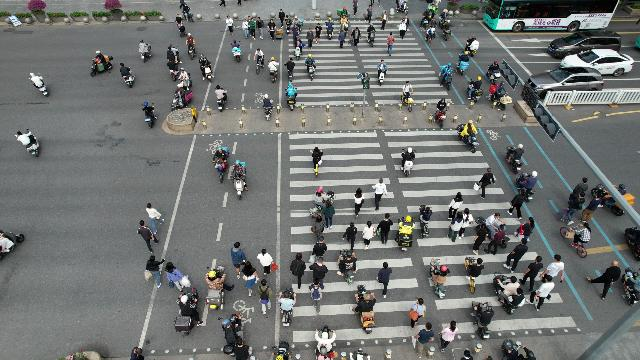non-motor-vehicle: (494, 270, 520, 310), (469, 300, 493, 340), (179, 288, 199, 330), (561, 225, 589, 255), (203, 268, 223, 308), (356, 290, 376, 328), (26, 70, 52, 98), (463, 256, 485, 288), (15, 128, 40, 156), (458, 121, 482, 150), (1, 226, 23, 256), (279, 287, 297, 323), (313, 324, 331, 360), (502, 340, 534, 360), (429, 257, 445, 292), (90, 52, 112, 77), (222, 318, 240, 348), (397, 217, 415, 246), (340, 250, 354, 286), (210, 148, 228, 176), (399, 147, 416, 175), (170, 88, 193, 108), (622, 228, 640, 252), (234, 164, 246, 200), (518, 172, 538, 192), (420, 201, 432, 233), (139, 40, 155, 64), (262, 94, 274, 126), (470, 78, 486, 102), (313, 187, 335, 204), (505, 146, 523, 166), (492, 81, 510, 101), (628, 270, 640, 298), (311, 146, 323, 174), (215, 84, 228, 109), (489, 62, 507, 80), (272, 340, 288, 360), (454, 52, 470, 72), (598, 190, 612, 212), (120, 62, 134, 84), (304, 55, 318, 77), (284, 59, 298, 81), (402, 84, 416, 106), (488, 214, 504, 232), (202, 54, 214, 78), (436, 100, 448, 124), (268, 57, 278, 84), (165, 42, 179, 61), (349, 348, 371, 360), (324, 18, 336, 40), (377, 60, 389, 82), (444, 65, 456, 87), (286, 84, 296, 109), (143, 102, 153, 126), (367, 22, 377, 46), (185, 38, 198, 56), (232, 40, 242, 62), (254, 51, 264, 73), (177, 70, 191, 84), (165, 62, 179, 76), (394, 0, 410, 12), (466, 36, 478, 52), (294, 40, 304, 56), (444, 25, 454, 40), (182, 5, 192, 19), (425, 30, 433, 46), (284, 18, 292, 32), (422, 12, 430, 26), (428, 4, 438, 15), (341, 17, 351, 27), (338, 8, 350, 16), (442, 13, 451, 23), (294, 18, 304, 26), (430, 18, 438, 28)
person: (590, 263, 618, 297), (528, 278, 556, 310), (524, 256, 546, 288), (228, 244, 245, 280), (166, 264, 186, 292), (143, 257, 161, 287), (136, 222, 158, 246), (258, 251, 278, 277), (258, 283, 274, 313), (415, 326, 431, 356), (509, 239, 526, 267), (349, 191, 367, 217), (378, 214, 392, 246), (242, 263, 255, 297), (478, 172, 498, 194), (379, 264, 391, 298), (446, 317, 458, 351), (510, 192, 528, 214), (516, 218, 534, 240), (489, 229, 503, 256), (310, 282, 324, 308), (586, 194, 600, 220), (310, 216, 326, 238), (569, 198, 585, 220), (290, 256, 304, 280), (375, 182, 387, 210), (411, 299, 425, 323), (463, 205, 477, 229), (547, 256, 563, 276), (346, 224, 359, 248), (311, 238, 327, 256), (323, 200, 335, 224), (312, 260, 326, 280), (267, 21, 283, 38), (143, 204, 161, 219), (476, 226, 486, 253), (364, 224, 374, 250), (572, 177, 588, 193), (448, 194, 462, 212), (175, 14, 187, 34), (256, 18, 266, 40), (386, 34, 396, 54), (132, 344, 144, 360), (352, 27, 362, 46), (453, 214, 461, 234), (314, 24, 322, 42), (398, 22, 408, 36), (352, 1, 360, 18), (228, 18, 235, 36), (380, 13, 388, 27), (461, 351, 473, 360), (339, 30, 345, 48), (308, 29, 314, 47), (368, 5, 374, 20), (293, 26, 299, 40), (276, 10, 286, 18), (244, 20, 248, 36), (218, 0, 228, 6), (402, 16, 410, 21), (251, 20, 255, 30), (246, 16, 252, 22), (178, 0, 184, 6)
